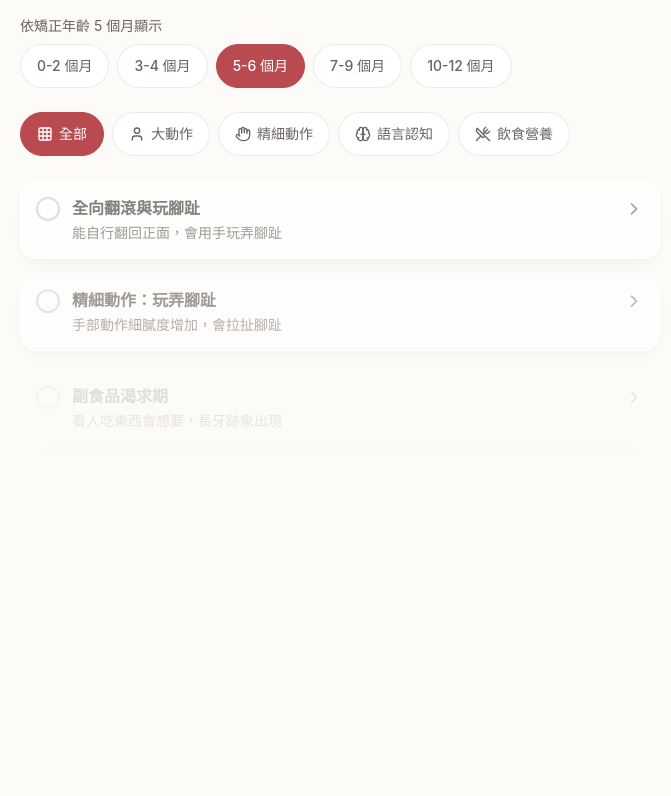
Scenario: MilestonesPage corrected age › drops the line once the parent picks another band, and brings it back on the child's own
Click the button "0-2 個月". click: coordinates (65, 66)
box: x1=20 y1=44 x2=110 y2=88
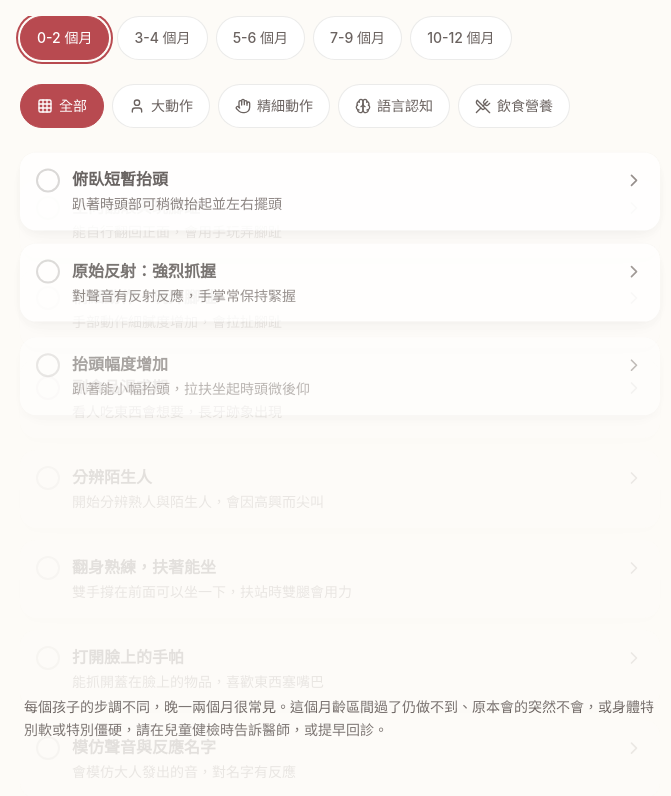
Now the text "依矯正年齡" is gone
Click the button "5-6 個月". click: coordinates (260, 38)
box: x1=216 y1=16 x2=305 y2=60
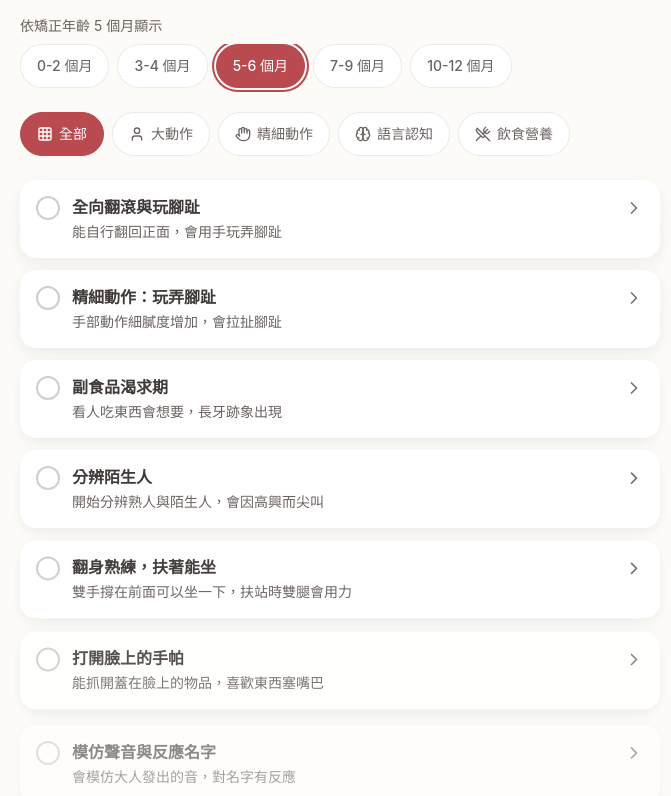
Now the text "依矯正年齡 5 個月顯示" is shown, box x1=20 y1=17 x2=162 y2=34
